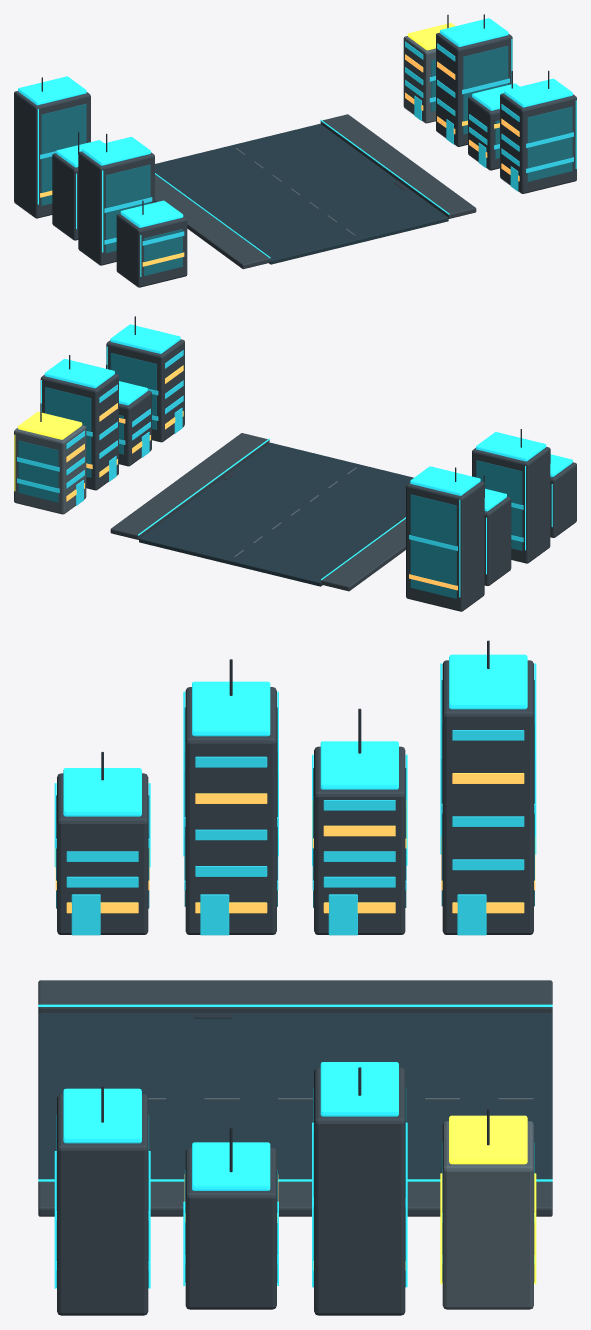
File: street_straight_lod0.glb
The picture shows the model from 3 angles, top to bottom: view 1: azimuth 30°, elevation 25°; view 2: azimuth 150°, elevation 25°; view 3: azimuth 270°, elevation 25°; orthographic projection. The views are drawn at different scales.
Parts seen in each view (by area): view 1: ND_Batch_ND_WetAsphalt, ND_Batch_ND_CityConcrete, ND_Batch_ND_DarkGlass, ND_Batch_ND_CityCyanMuted, ND_Batch_ND_RoadEdge, ND_Batch_ND_NeonGlass, ND_Batch_ND_CityConcreteLight, ND_Batch_ND_WarmWindow, ND_Batch_ND_PackageGold, ND_Batch_ND_RooftopMetal; view 2: ND_Batch_ND_WetAsphalt, ND_Batch_ND_CityConcrete, ND_Batch_ND_DarkGlass, ND_Batch_ND_CityCyanMuted, ND_Batch_ND_RoadEdge, ND_Batch_ND_NeonGlass, ND_Batch_ND_CityConcreteLight, ND_Batch_ND_PackageGold, ND_Batch_ND_WarmWindow; view 3: ND_Batch_ND_CityConcrete, ND_Batch_ND_WetAsphalt, ND_Batch_ND_CityCyanMuted, ND_Batch_ND_RoadEdge, ND_Batch_ND_NeonGlass, ND_Batch_ND_CityConcreteLight, ND_Batch_ND_WarmWindow, ND_Batch_ND_PackageGold, ND_Batch_ND_DarkGlass, ND_Batch_ND_RooftopMetal.
Boxes of the visible parts, x1,y1,x2,y2 form: ND_Batch_ND_WetAsphalt: (155, 124, 448, 264); ND_Batch_ND_CityConcrete: (14, 32, 576, 287); ND_Batch_ND_DarkGlass: (41, 46, 572, 275); ND_Batch_ND_CityCyanMuted: (18, 18, 576, 276); ND_Batch_ND_RoadEdge: (155, 114, 476, 269); ND_Batch_ND_NeonGlass: (40, 41, 573, 245); ND_Batch_ND_CityConcreteLight: (235, 36, 435, 235); ND_Batch_ND_WarmWindow: (40, 54, 519, 266); ND_Batch_ND_PackageGold: (407, 23, 455, 50); ND_Batch_ND_RooftopMetal: (41, 14, 549, 231); ND_Batch_ND_WetAsphalt: (139, 442, 413, 586); ND_Batch_ND_CityConcrete: (40, 339, 576, 611); ND_Batch_ND_DarkGlass: (18, 353, 522, 598); ND_Batch_ND_CityCyanMuted: (41, 324, 572, 597); ND_Batch_ND_RoadEdge: (110, 433, 405, 591); ND_Batch_ND_NeonGlass: (17, 350, 523, 550); ND_Batch_ND_CityConcreteLight: (14, 425, 356, 556); ND_Batch_ND_PackageGold: (14, 411, 82, 491); ND_Batch_ND_WarmWindow: (66, 365, 457, 590); ND_Batch_ND_CityConcrete: (57, 660, 533, 1315); ND_Batch_ND_WetAsphalt: (38, 1013, 552, 1182); ND_Batch_ND_CityCyanMuted: (38, 654, 552, 1288); ND_Batch_ND_RoadEdge: (38, 980, 552, 1216); ND_Batch_ND_NeonGlass: (55, 730, 535, 1270); ND_Batch_ND_CityConcreteLight: (148, 1098, 533, 1309); ND_Batch_ND_WarmWindow: (55, 773, 535, 1270); ND_Batch_ND_PackageGold: (440, 1115, 536, 1284); ND_Batch_ND_DarkGlass: (56, 680, 534, 1287); ND_Batch_ND_RooftopMetal: (101, 640, 489, 1172).
Bounding box in the file's own units: 40 × 11.43 × 20.
